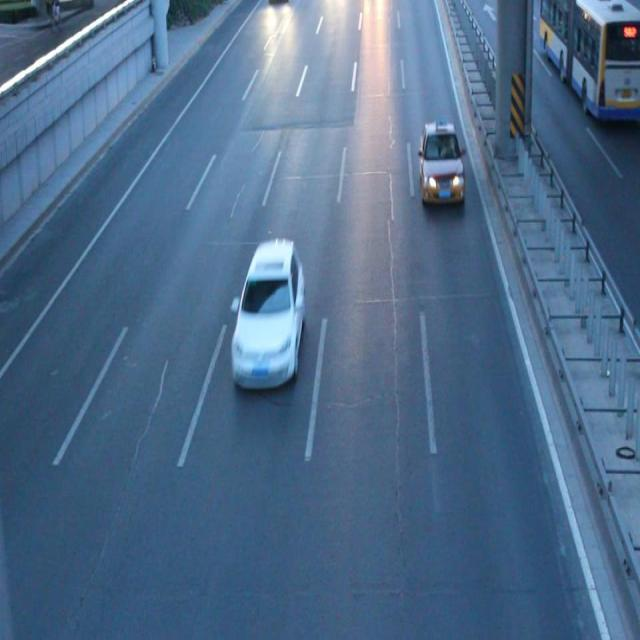car: (229, 239, 305, 389), (418, 122, 466, 207)
